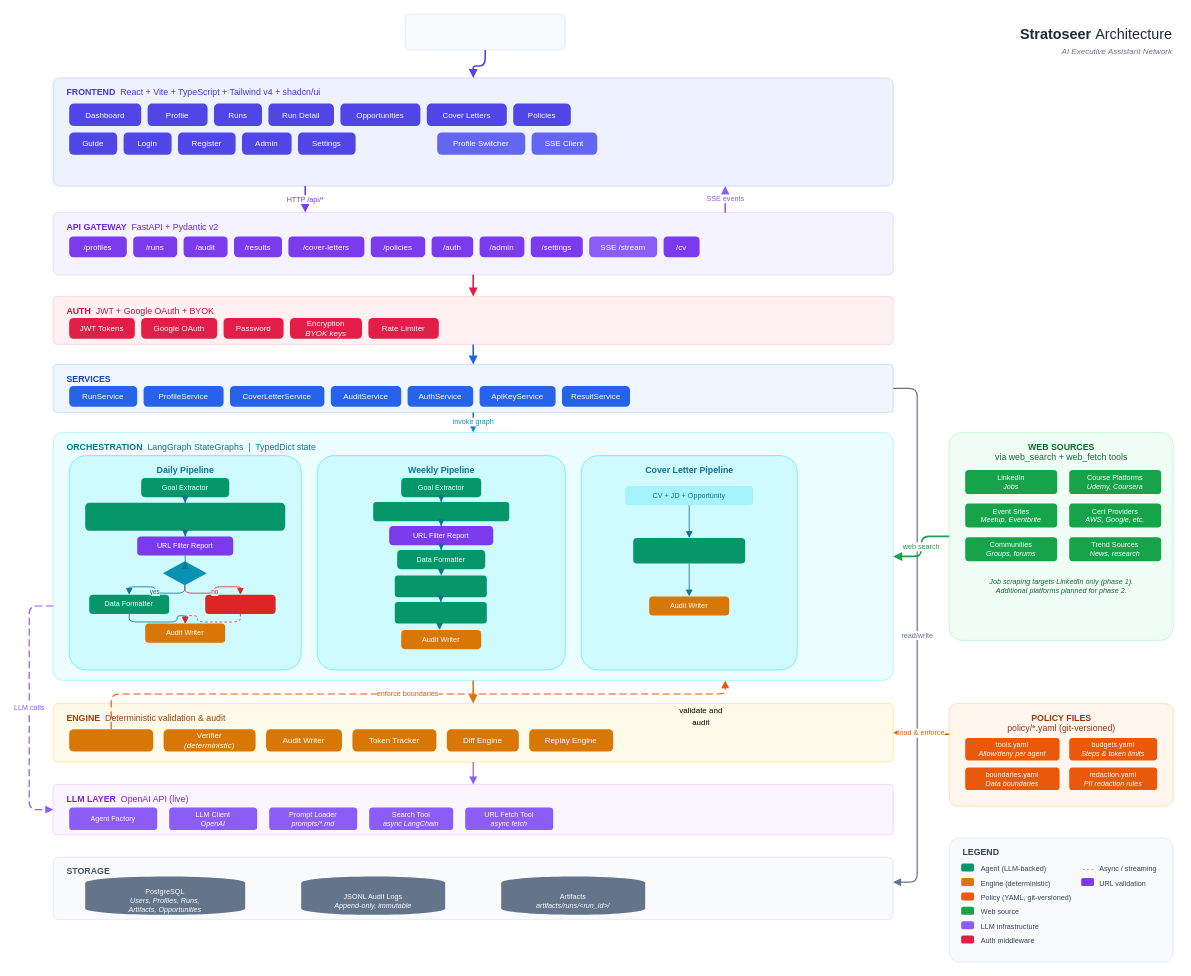
Image size: 1191x976. Some labels were removed from this diagram. Here are the shapes that lost their labels. From the top down, the centre of each, then its label:
At pixel 484 31: "Browser".
At pixel 185 516: "Web Scrapers (6 parallel) Jobs, Certs, Courses, Events, Groups, Trends".
At pixel 441 511: "Web Scrapers (6 parallel)".
At pixel 689 550: "Cover Letter Agent CV + JD + reqs only".
At pixel 184 573: "Results?".
At pixel 440 586: "CEO Agent Strategic recs".
At pixel 240 604: "Safe Degrade".
At pixel 440 612: "CFO Agent Risk assessment".
At pixel 111 740: "Policy Engine".
